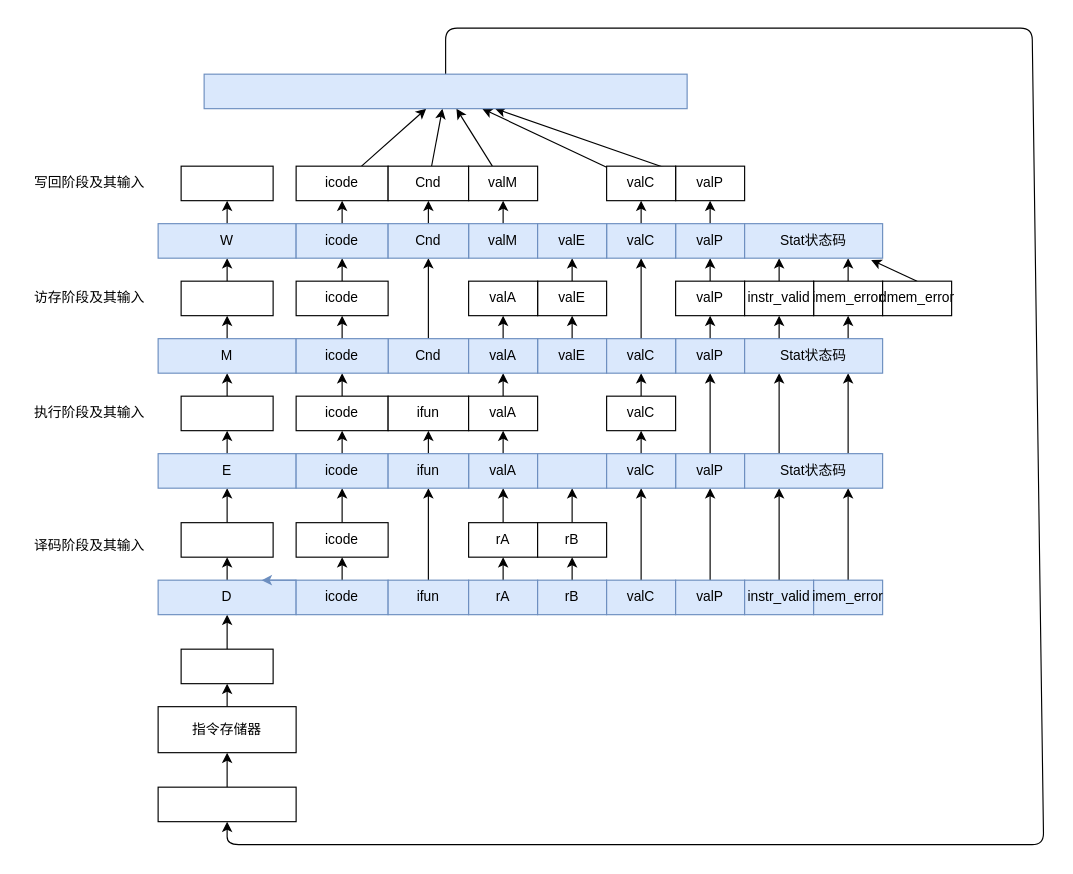
Image size: 1073x874. Some labels were removed from this diagram. Each missing label, with the centre of its shape:
"PC" goes at [226,804].
"valB" goes at [571,470].
"写回" goes at [226,183].
"取指" goes at [226,666].
"执行" goes at [226,413].
"新的PC" goes at [445,91].
"访存" goes at [226,298].
"译码" goes at [226,539].
